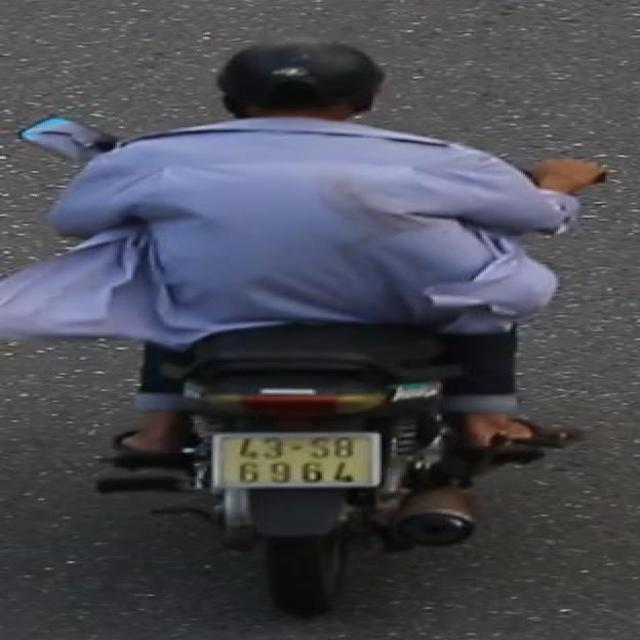LP: (203, 428, 388, 495)
helmet: (205, 34, 392, 137)
